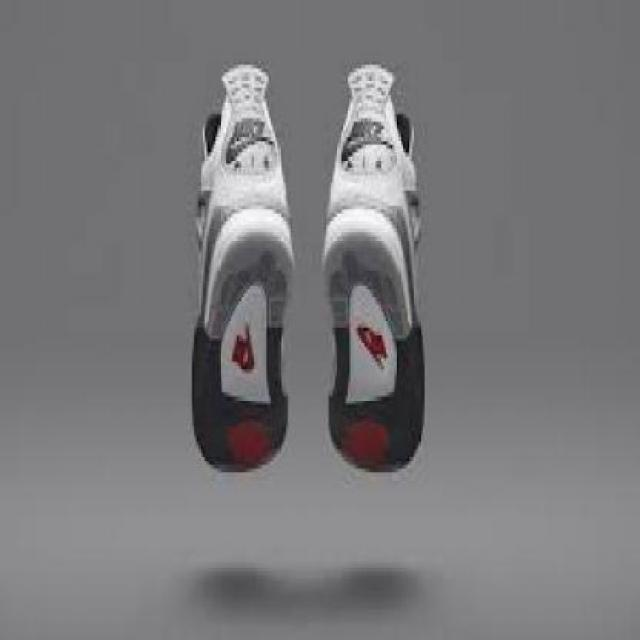Nike: (335, 110, 395, 164), (218, 111, 275, 160)
